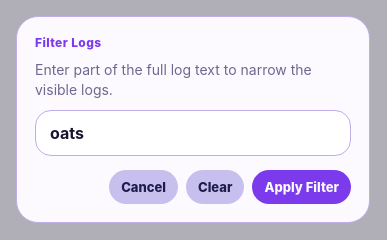
Test case: TextInputModal › shows an optional clear action and keeps the modal open after clearing
The width and height of the screenshot is (387, 240).
Click the button "Clear".
click(215, 187)  # box [186,170,244,204]
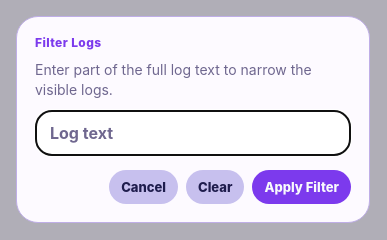
Expected: the text "Filter Logs" is shown, [35,35,102,50]
Now the field named "Log text filter" is empty, box [35,110,351,156]
